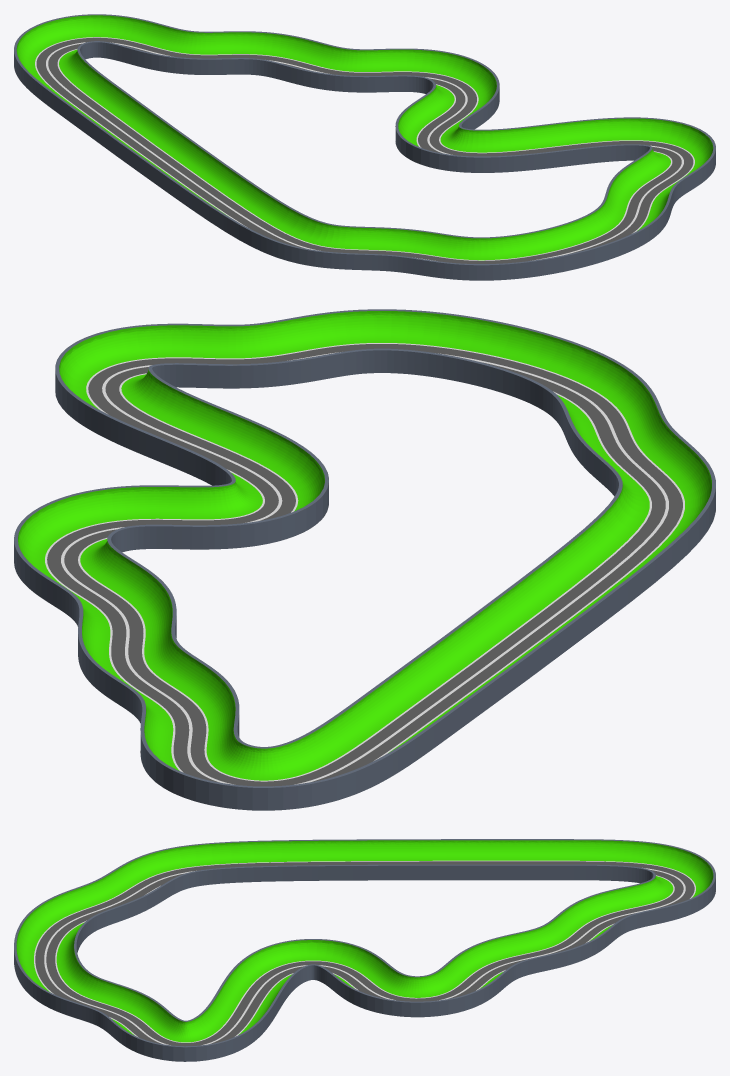
Rendered from Track #11.fbx.
3 renders of one model, top to bottom at view 1: azimuth 30°, elevation 25°; view 2: azimuth 150°, elevation 25°; view 3: azimuth 270°, elevation 25°, orthographic. The views are drawn at different scales.
Visible parts, largest first — view 1: Plane; view 2: Plane; view 3: Plane.
Boxes of the visible parts, x1=… form: Plane: x1=14, y1=14, x2=715, y2=280; Plane: x1=14, y1=309, x2=715, y2=810; Plane: x1=14, y1=839, x2=715, y2=1061.
Bounding box in the file's own units: 4447 × 146 × 6339.
